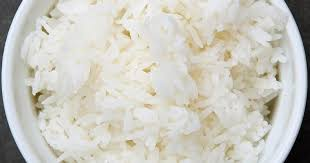ssalbab: (16, 0, 293, 163)
